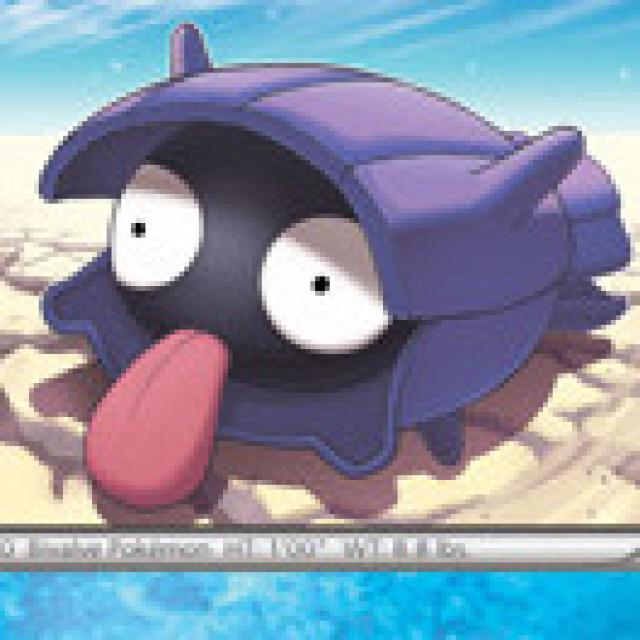Shellder: (39, 66, 563, 473)
